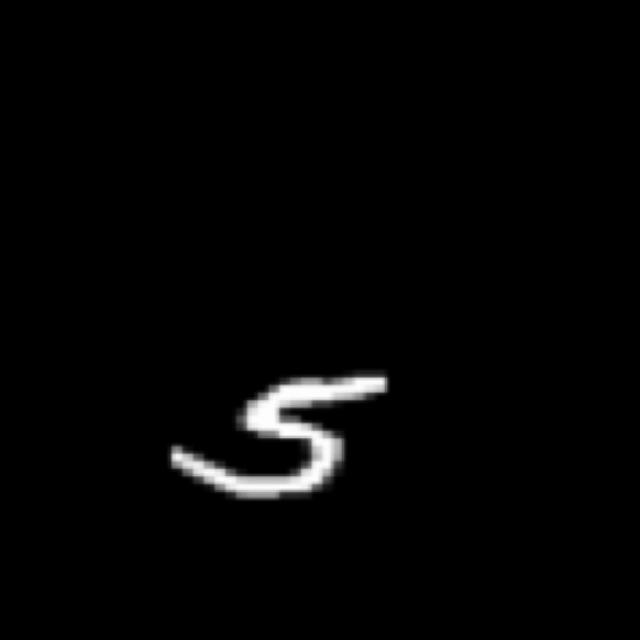five -5-: (153, 365, 406, 501)
